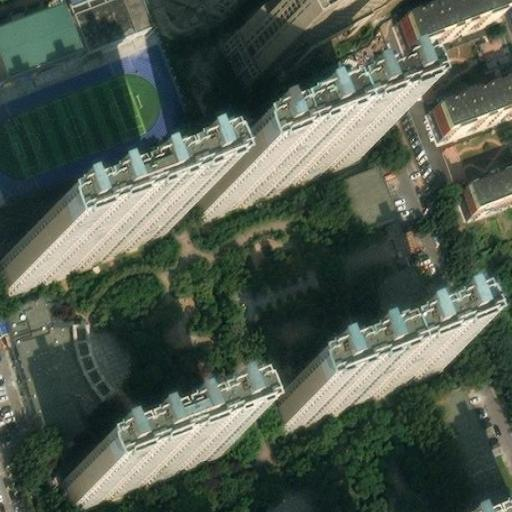building: (0, 196, 166, 290), (62, 407, 228, 499), (191, 147, 291, 213), (276, 358, 376, 420), (368, 324, 453, 385), (281, 114, 364, 176), (329, 162, 397, 237), (460, 167, 512, 211), (252, 494, 303, 512)
